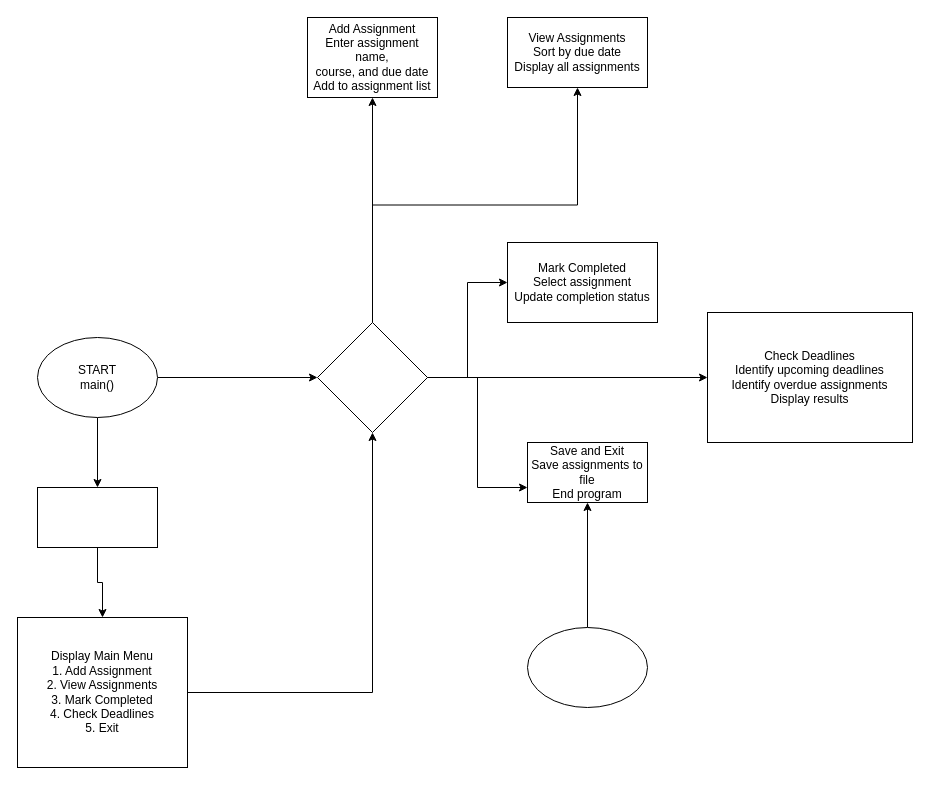
Image size: 930x785. Some labels were removed from this diagram. Each missing label, with the box of its shape:
END: (526, 626, 648, 708)
Load Assignments Read saved data from file: (36, 486, 158, 548)
User selects an option: (316, 322, 428, 432)
